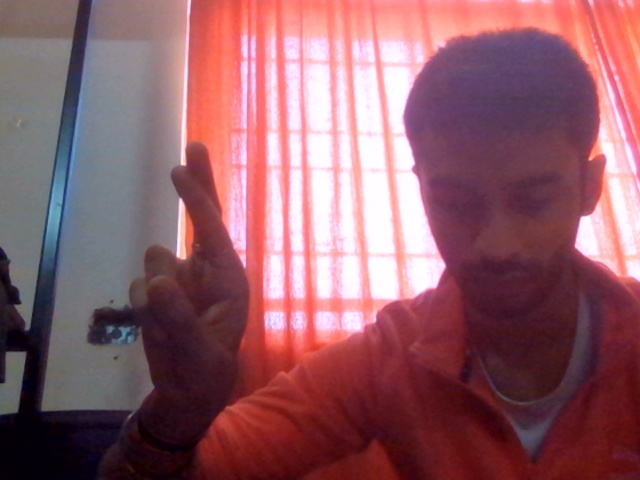R: (101, 123, 278, 467)
